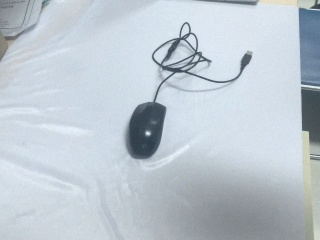mouse: (126, 102, 167, 160)
